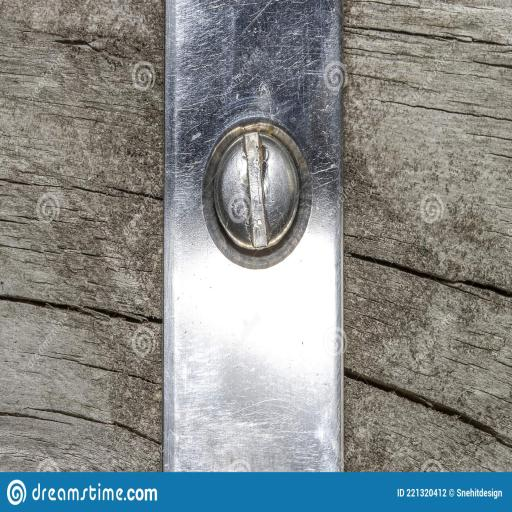Slotted: (217, 131, 302, 256)
